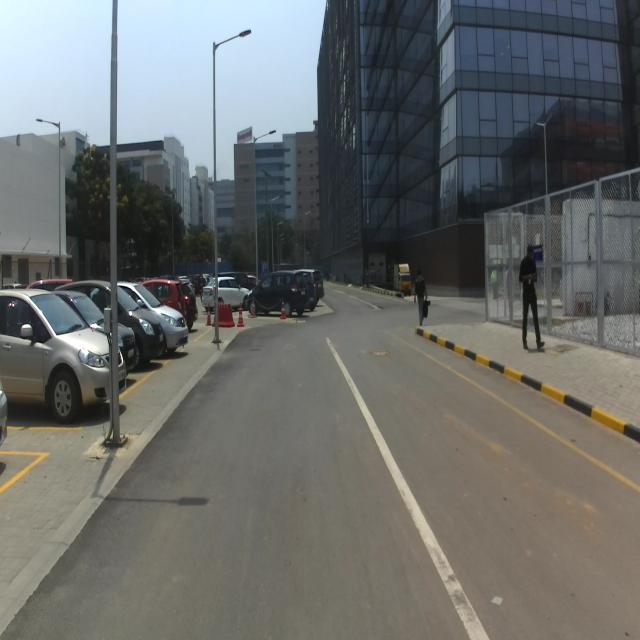car ahead at: (0, 281, 108, 448)
electric pole ahead at: (104, 1, 126, 450)
person ahead at: (517, 242, 549, 361)
